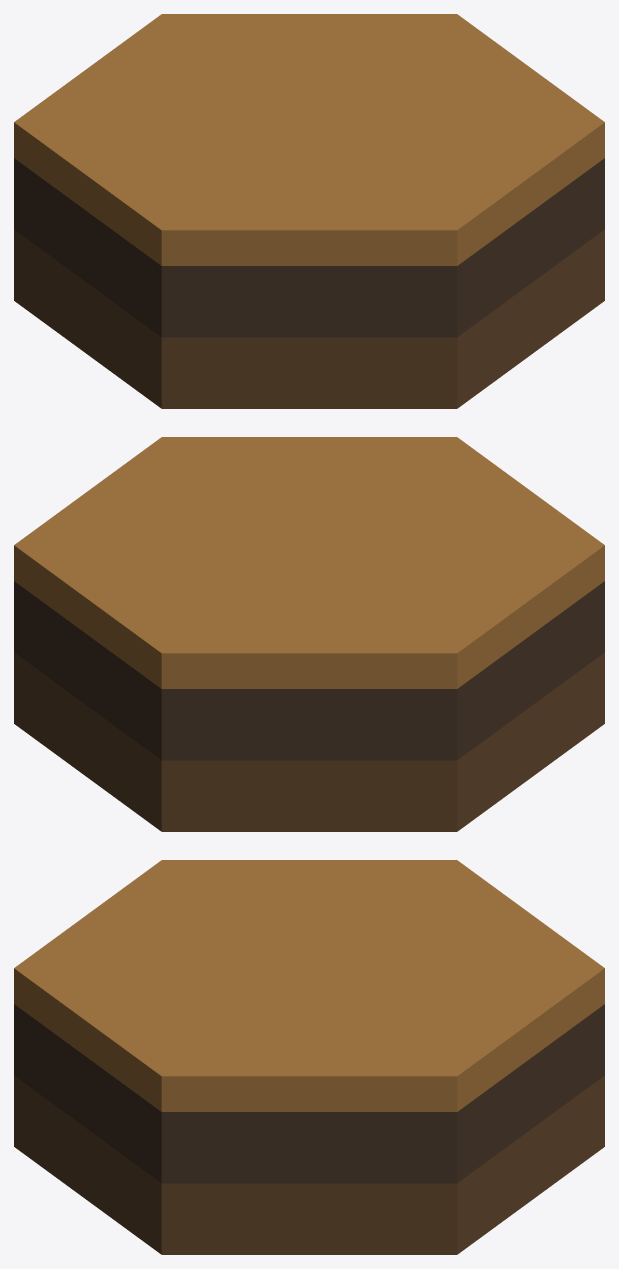
Rendered from hexagon-dirt.glb.
The picture shows the model from 3 angles, top to bottom: view 1: azimuth 30°, elevation 25°; view 2: azimuth 150°, elevation 25°; view 3: azimuth 270°, elevation 25°; orthographic projection.
Visible parts, largest first — view 1: hexagon-dirt; view 2: hexagon-dirt; view 3: hexagon-dirt.
Boxes of the visible parts, x1=… form: hexagon-dirt: x1=14, y1=14, x2=604, y2=408; hexagon-dirt: x1=14, y1=437, x2=604, y2=831; hexagon-dirt: x1=14, y1=860, x2=604, y2=1254.
Size of the model in its own units: 25.98 by 10 by 30.
1 material, 1 textured.
